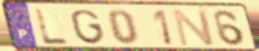0: (106, 8, 141, 47)
1: (153, 9, 174, 48)
6: (212, 9, 247, 48)
G: (69, 8, 107, 46)
L: (34, 8, 72, 46)
N: (171, 9, 217, 47)
